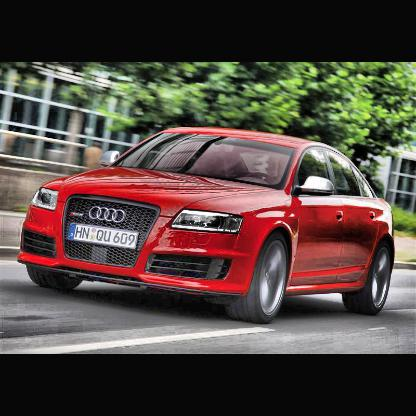Audi S6 Sedan 2011: (18, 127, 397, 323)
